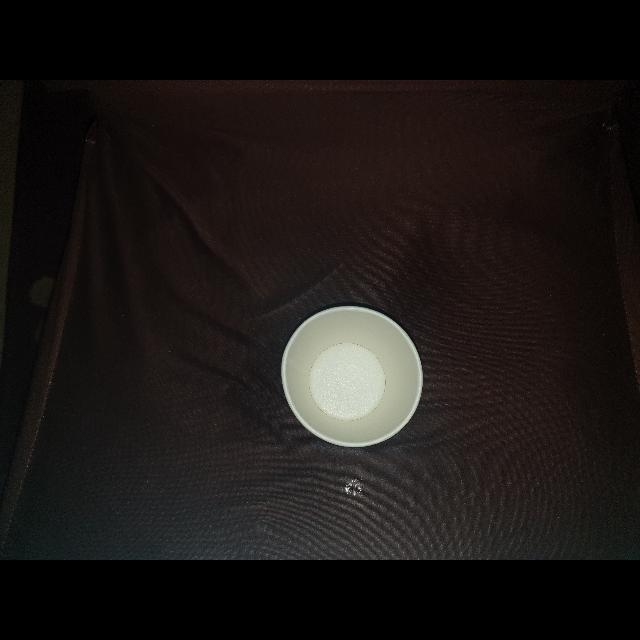trash: (278, 300, 432, 458)
